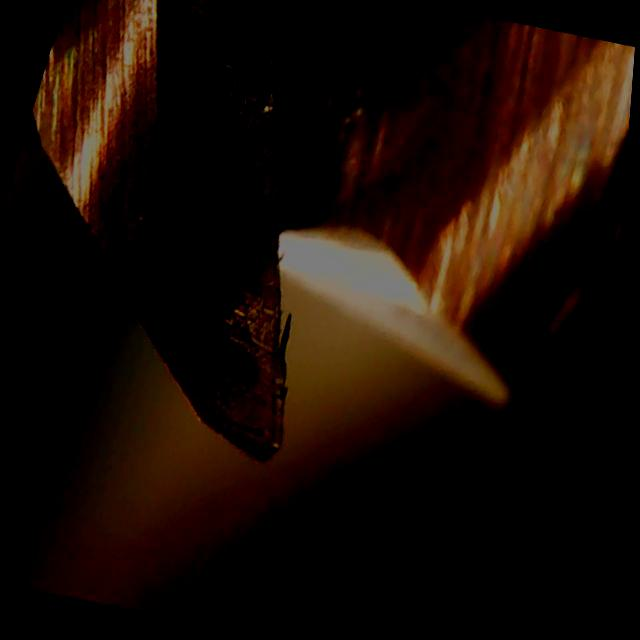Tool-wear-class-1: (106, 217, 372, 485)
